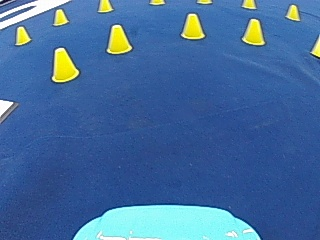cone: (50, 46, 79, 82), (105, 23, 132, 54), (180, 12, 205, 39), (241, 17, 265, 45), (14, 25, 30, 45), (285, 4, 300, 21), (53, 8, 68, 25), (310, 33, 319, 57), (97, 0, 112, 12), (242, 0, 255, 9)
